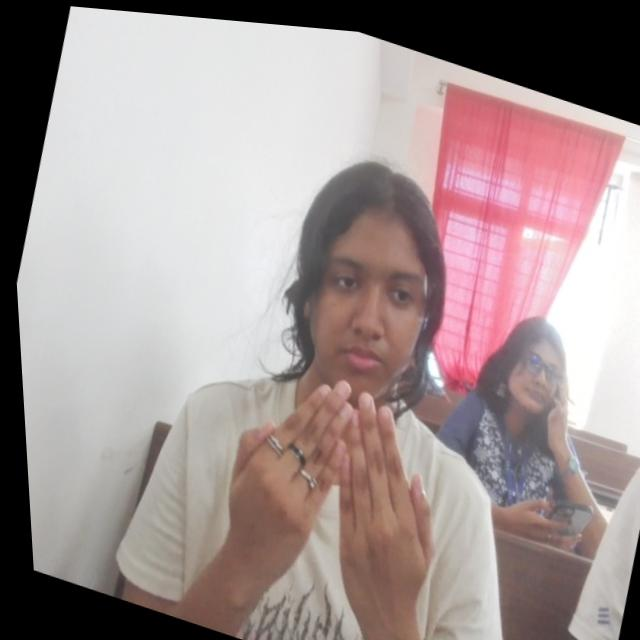thankyou: (193, 337, 469, 629)
